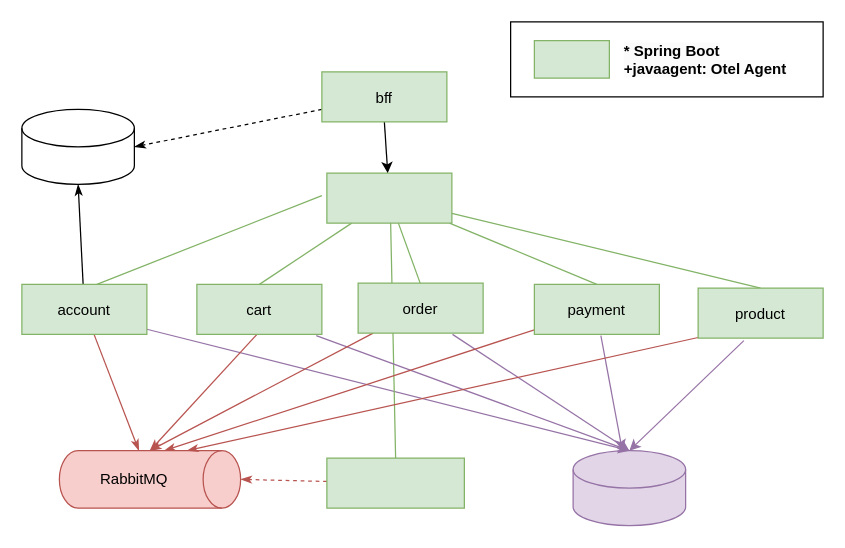
Some shapes in this 845 by 548 pixel diagram are drawn without their labels. Each missing label, with the box of its shape:
apigateway: (326, 172, 452, 223)
MariaDB: (572, 449, 686, 526)
rabbitm-consumer: (326, 457, 464, 508)
Redis (Cache): (21, 108, 134, 184)
